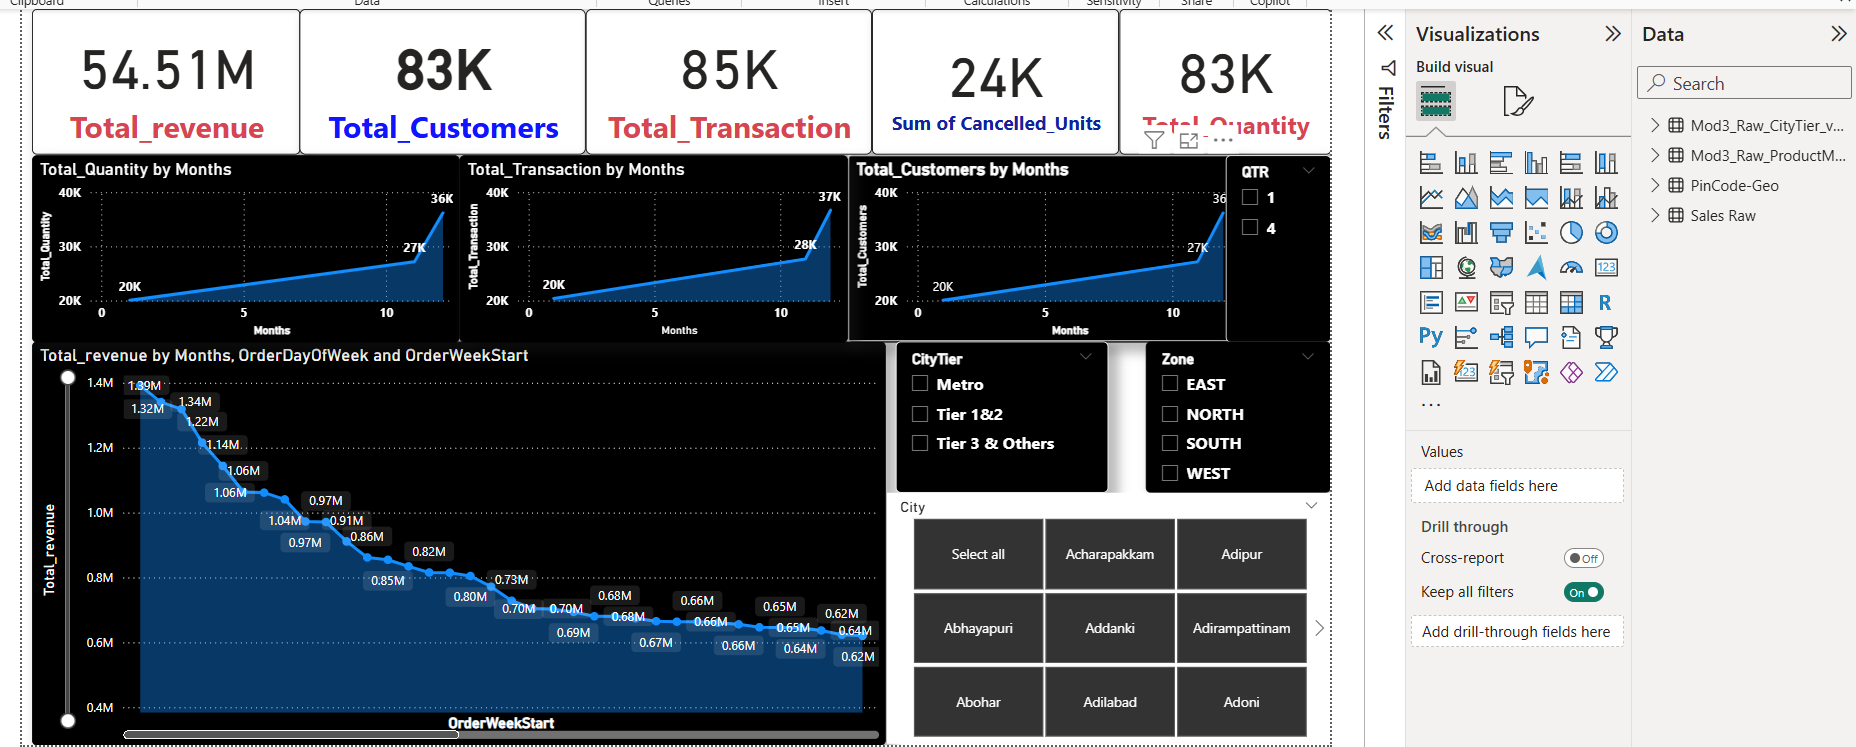

The dashboard page shown, as its layout file describes it:
{"tool":"powerbi","page":{"name":"Page 1","canvas":[1280,720],"ordinal":0},"visuals":[{"type":"card","title":"Total Revenue","fields":{"Values":["Sales Raw.Total_revenue"]},"box":[9.6,0,262.1,142.7],"z":0},{"type":"card","fields":{"Values":["Sales Raw.Total_Customers"]},"box":[271.7,0,279.9,142.7],"z":1000},{"type":"card","fields":{"Values":["Sales Raw.Total_Transaction"]},"box":[551.6,0,279.9,142.7],"z":2000},{"type":"card","fields":{"Values":["Sum(Sales Raw.Cancelled_Units)"]},"box":[831.6,0,241.5,142.7],"z":2001},{"type":"card","fields":{"Values":["Sales Raw.Total_Quantity"]},"box":[1073.1,0,207.2,142.7],"z":2002},{"type":"areaChart","fields":{"Category":["Sales Raw.Months","Sales Raw.OrderDayOfWeek","Sales Raw.OrderWeekStart"],"Y":["Sales Raw.Total_revenue"]},"box":[9.8,325.3,835.2,395],"z":2003},{"type":"areaChart","fields":{"Category":["Sales Raw.Months"],"Y":["Sales Raw.Total_Customers"]},"box":[807.8,142.6,382.9,183.3],"z":2004},{"type":"areaChart","fields":{"Category":["Sales Raw.Months"],"Y":["Sales Raw.Total_Quantity"]},"box":[9.5,142.6,418.2,183.3],"z":2005},{"type":"areaChart","fields":{"Y":["Sales Raw.Total_Transaction"],"Category":["Sales Raw.Months"]},"box":[427.7,142.6,380.1,183.3],"z":2006},{"type":"slicer","fields":{"Values":["Sales Raw.QTR"]},"box":[1177.1,142.6,103.2,183.3],"z":2007},{"type":"slicer","fields":{"Values":["Mod3_Raw_CityTier_v0 1.CityTier"]},"box":[855.3,325.8,207.7,148],"z":2008},{"type":"slicer","fields":{"Values":["PinCode-Geo.Zone"]},"box":[1099.7,325.8,180.6,148],"z":2009},{"type":"slicer","fields":{"Values":["Mod3_Raw_CityTier_v0 1.City"]},"box":[845.8,473.8,434.5,245.7],"z":2010}]}

Visuals, with their boxes in screenshot pixels (x1, y1, x2, y2):
"Total Revenue" card: left=24, top=5, right=293, bottom=151
card - Sales Raw.Total_Customers: left=293, top=5, right=581, bottom=151
card - Sales Raw.Total_Transaction: left=581, top=5, right=868, bottom=151
card - Sum(Sales Raw.Cancelled_Units): left=868, top=5, right=1116, bottom=151
card - Sales Raw.Total_Quantity: left=1116, top=5, right=1328, bottom=151
areaChart - Sales Raw.Months x Sales Raw.OrderDayOfWeek: left=25, top=339, right=882, bottom=744
areaChart - Sales Raw.Months x Sales Raw.Total_Customers: left=843, top=151, right=1236, bottom=339
areaChart - Sales Raw.Months x Sales Raw.Total_Quantity: left=24, top=151, right=453, bottom=339
areaChart - Sales Raw.Total_Transaction x Sales Raw.Months: left=453, top=151, right=843, bottom=339
slicer - Sales Raw.QTR: left=1222, top=151, right=1328, bottom=339
slicer - Mod3_Raw_CityTier_v0 1.CityTier: left=892, top=339, right=1105, bottom=491
slicer - PinCode-Geo.Zone: left=1143, top=339, right=1328, bottom=491
slicer - Mod3_Raw_CityTier_v0 1.City: left=882, top=491, right=1328, bottom=743
